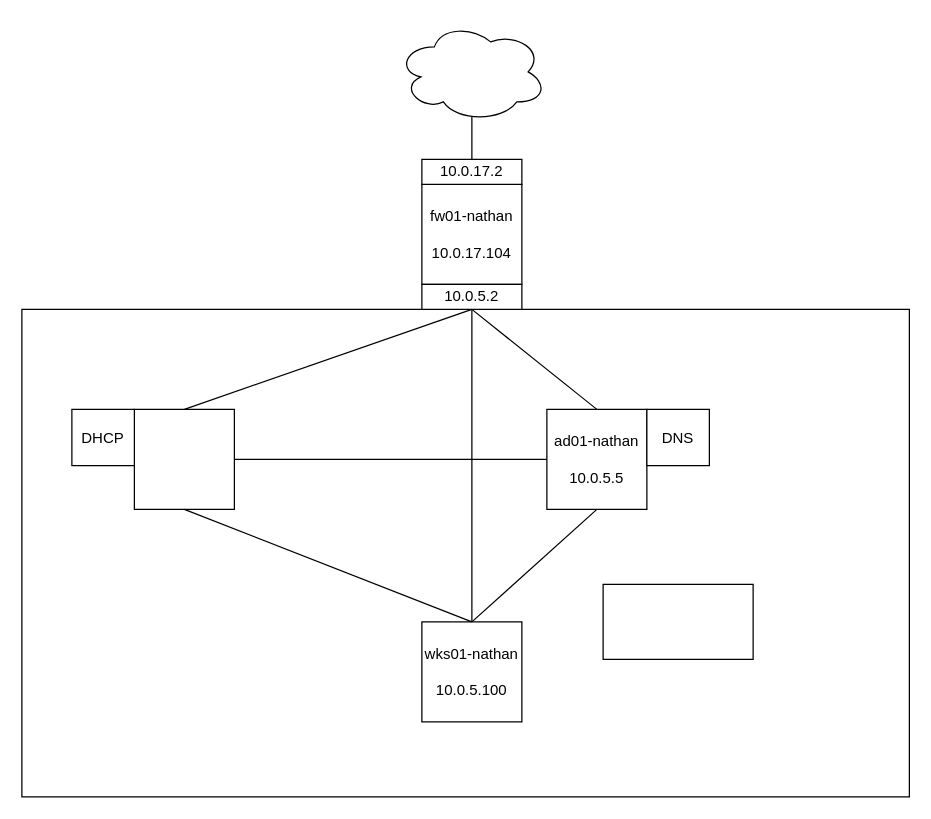
The diagram is 931 pixels wide and 819 high, and some of its shapes have lost their labels. The shapes that lost their labels are listed below. From the top down, each one's centre as x and y in pixels, then its label:
the point at 471,71: SYS 255 WAN
the point at 183,458: dhcp01-nathan 10.0.5.3
the point at 677,621: nathan.local 10.0.5.0 /24
